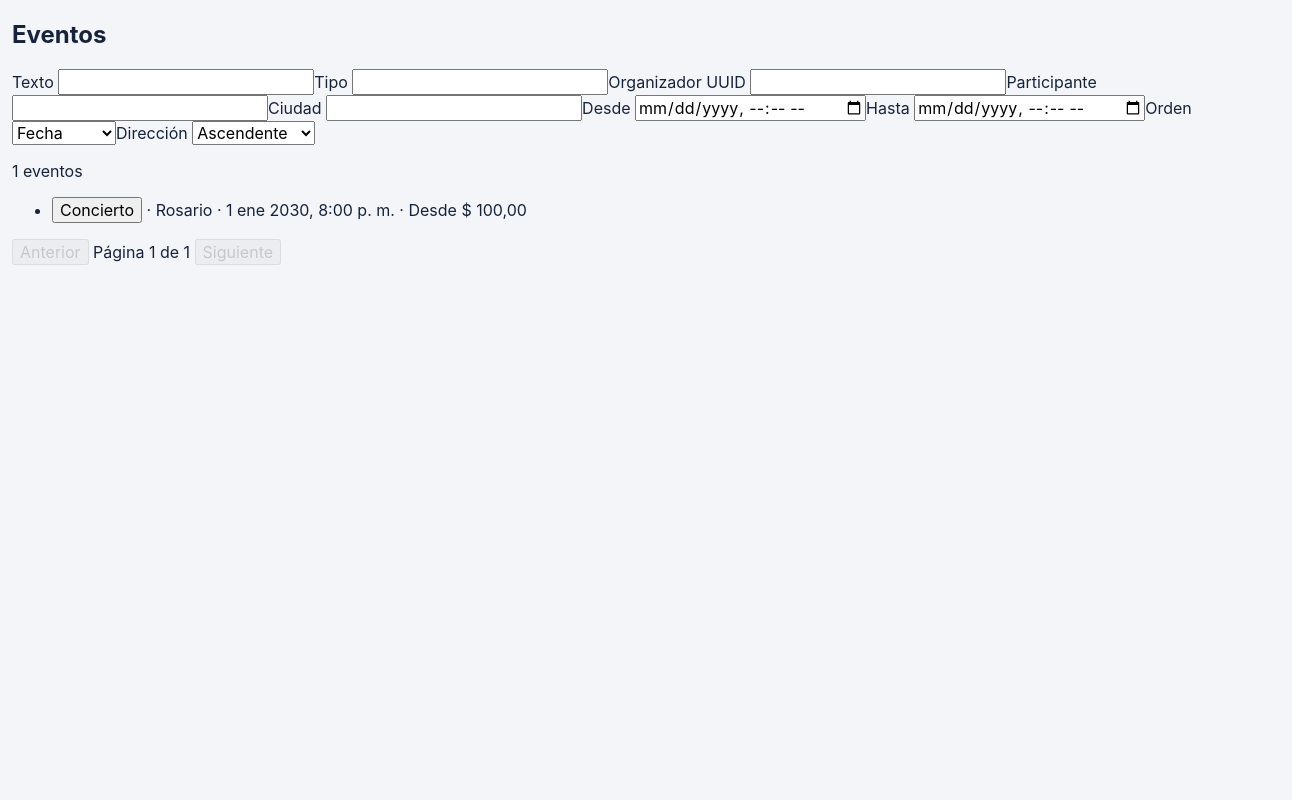
Test: recorrido del cliente › compra el asiento con IDs de Inventory y conserva clave/cuerpo ante respuesta incierta
Click the button "Concierto".
click(97, 210)  # box [52,197,142,223]
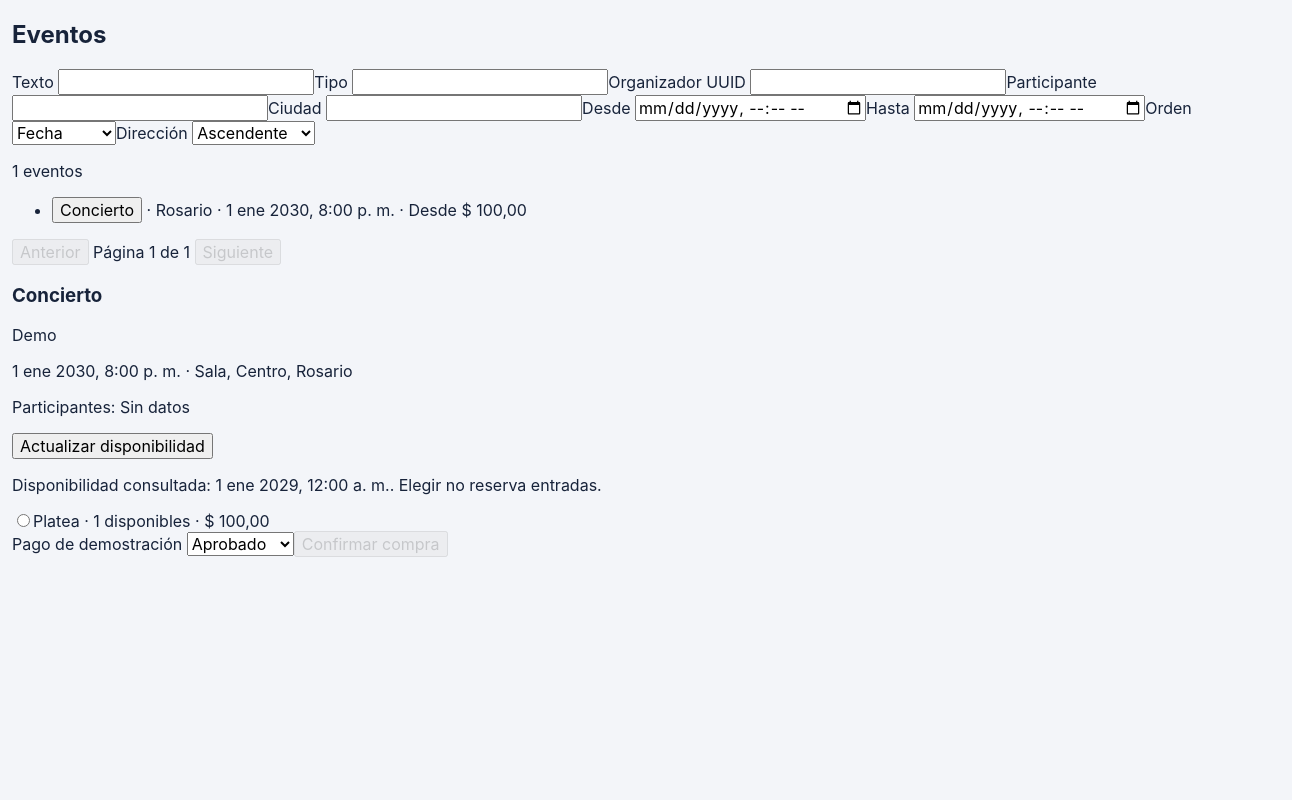
Click the radio button labelled "Platea · 1 disponibles · $ 100,00".
click(24, 521)  # box [17,514,30,527]
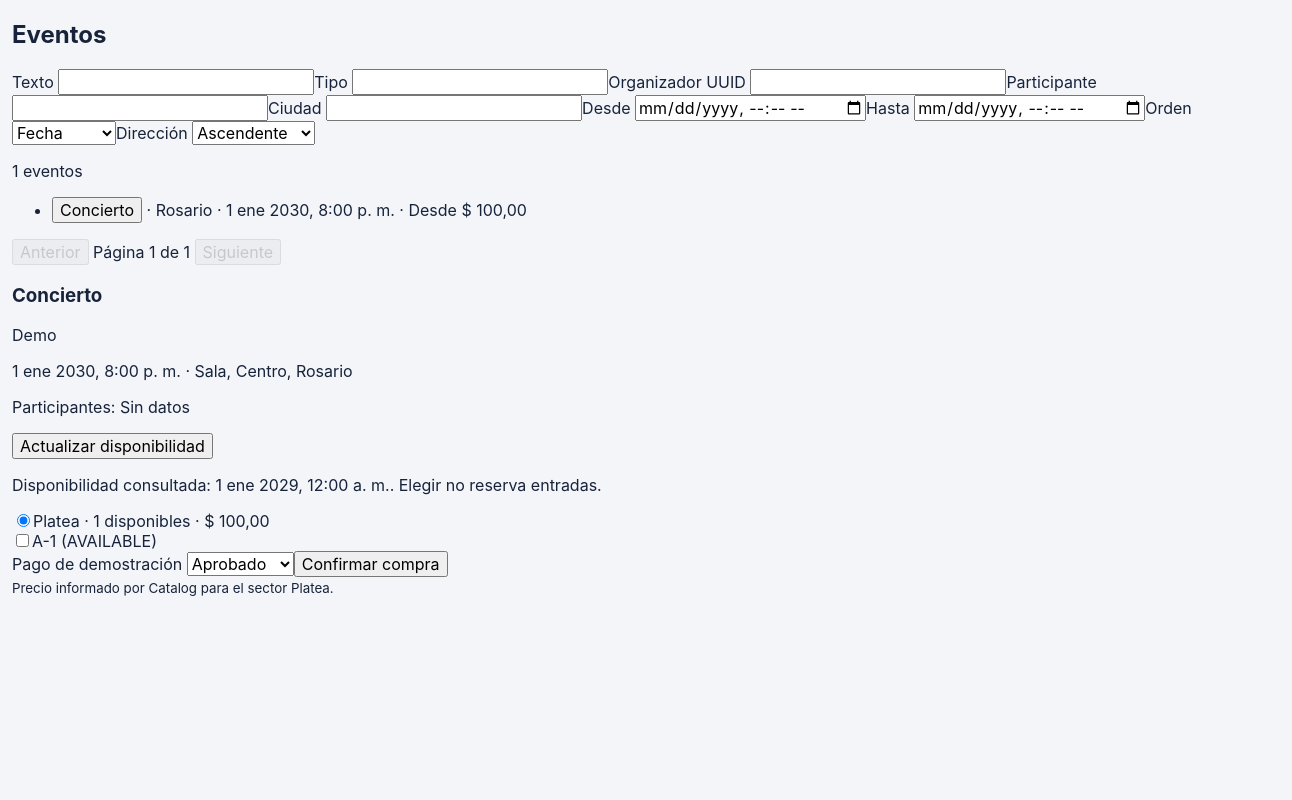
Click the checkbox labelled "A-1 (AVAILABLE)".
click(22, 541)  # box [16,534,29,547]
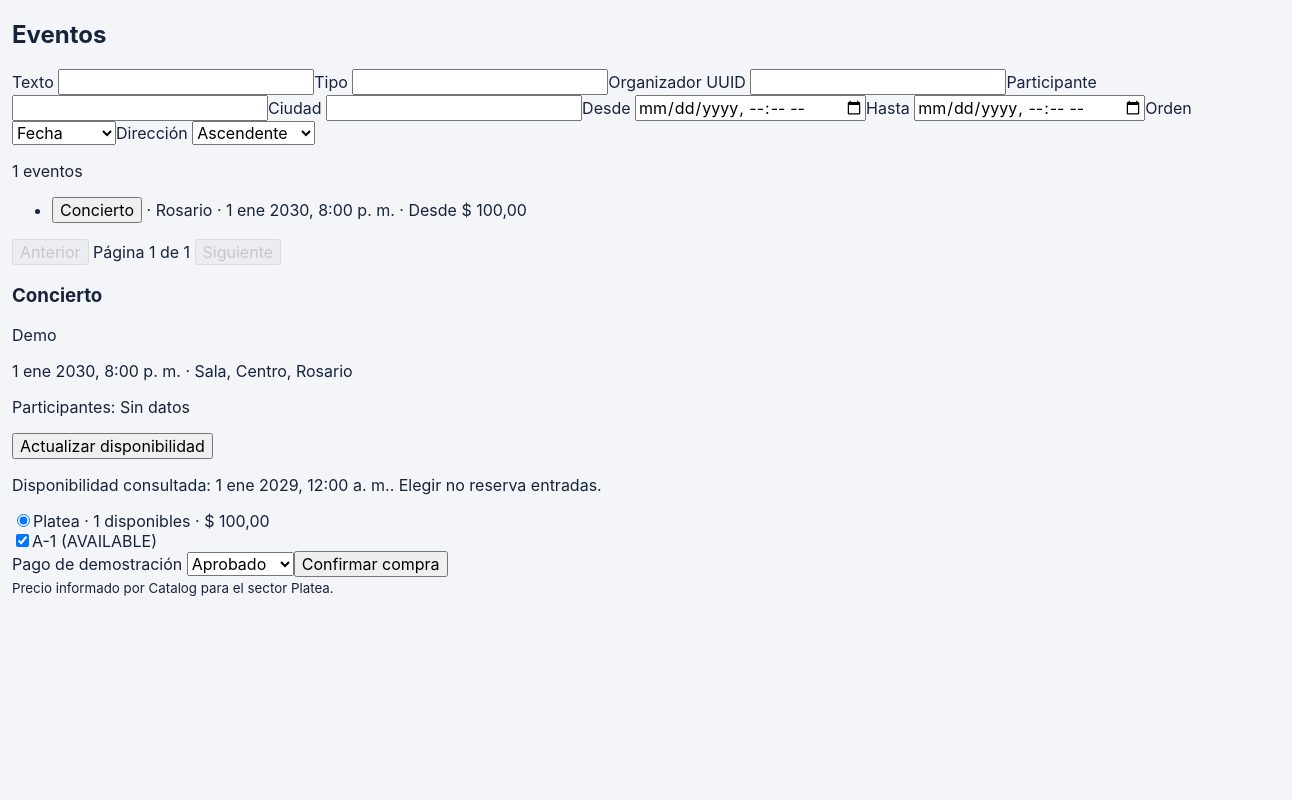
Click the button "Confirmar compra".
click(371, 564)  # box [294,551,448,577]
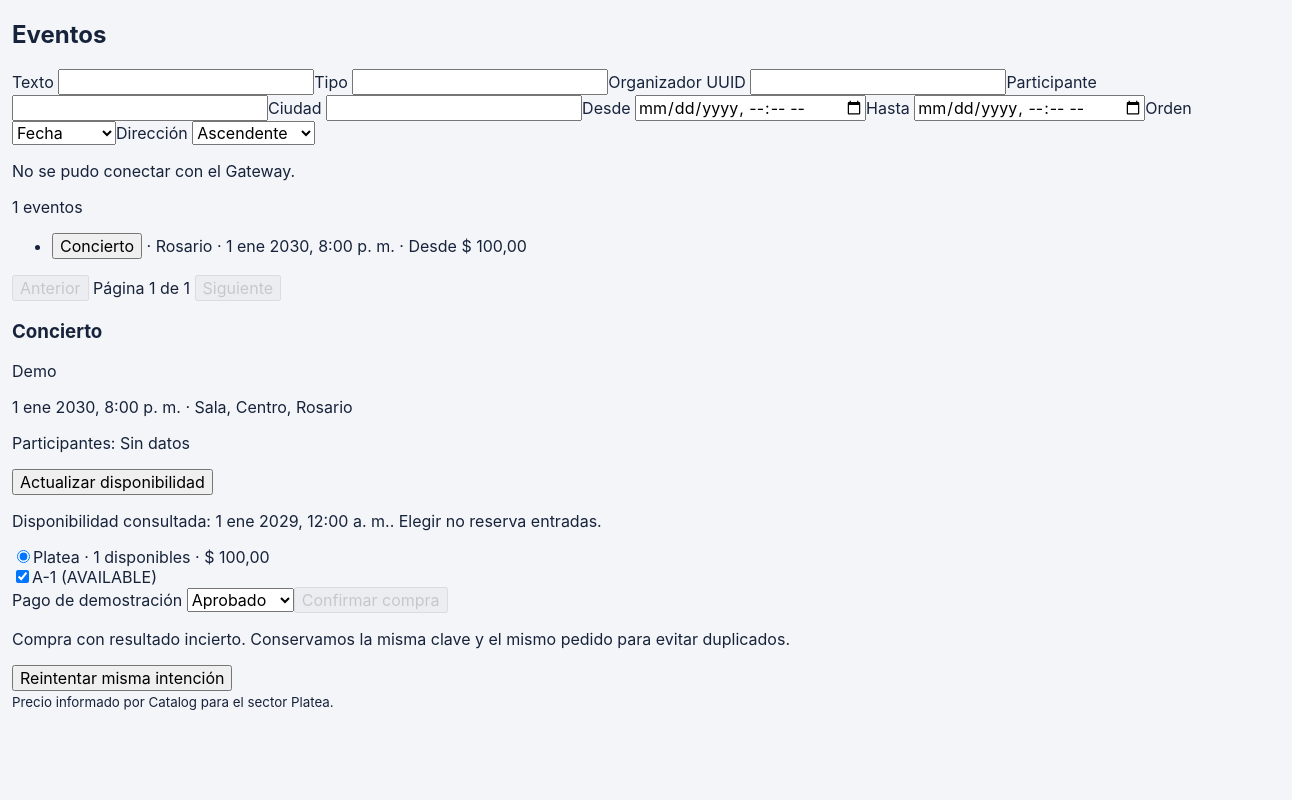
Now the button "Reintentar misma intención" is shown
Click the button "Reintentar misma intención".
click(122, 678)  # box [12,665,232,691]
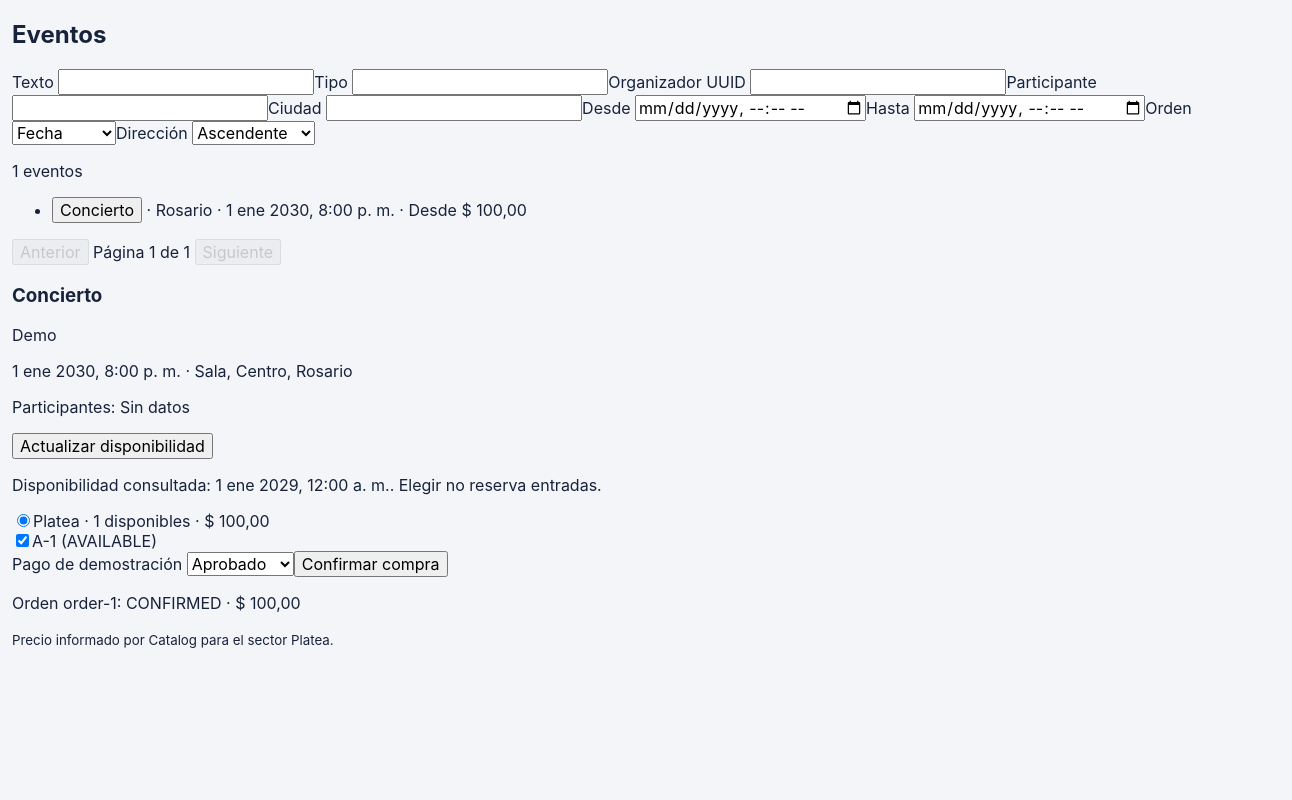
Now the text "Orden order-1: CONFIRMED · $ 100,00" is shown, box [12,593,301,613]
